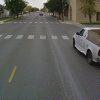Crosswalk: (2, 28, 68, 45)
